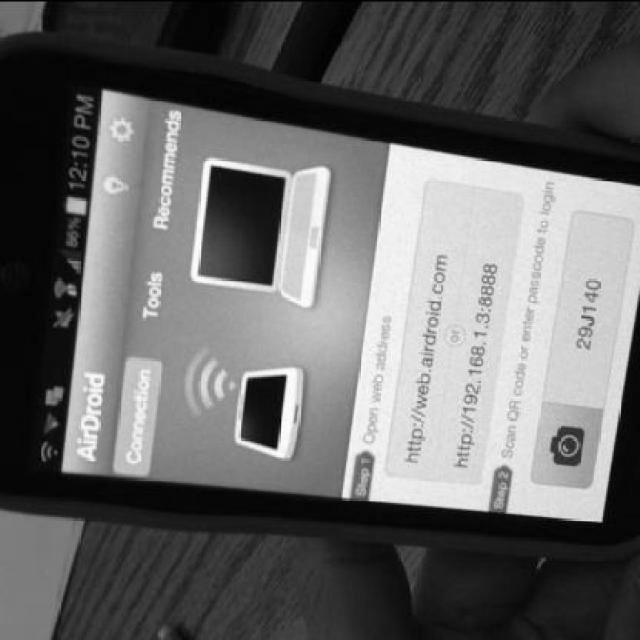fake: (0, 29, 638, 570)
